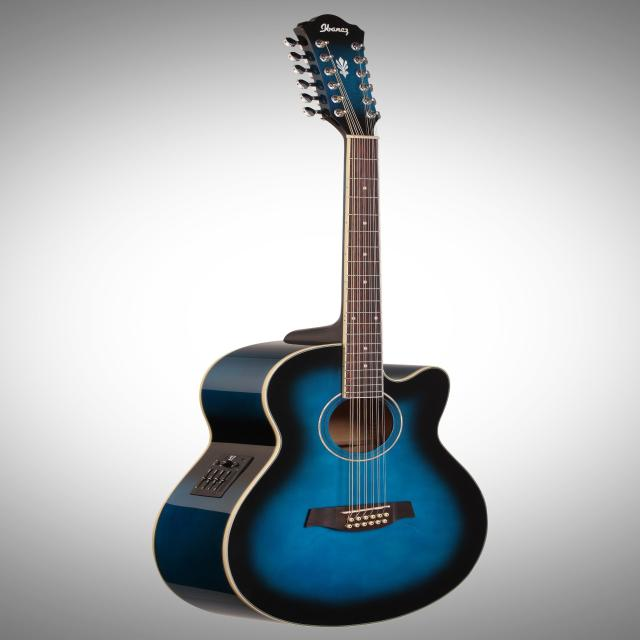guitar: (154, 15, 487, 626)
